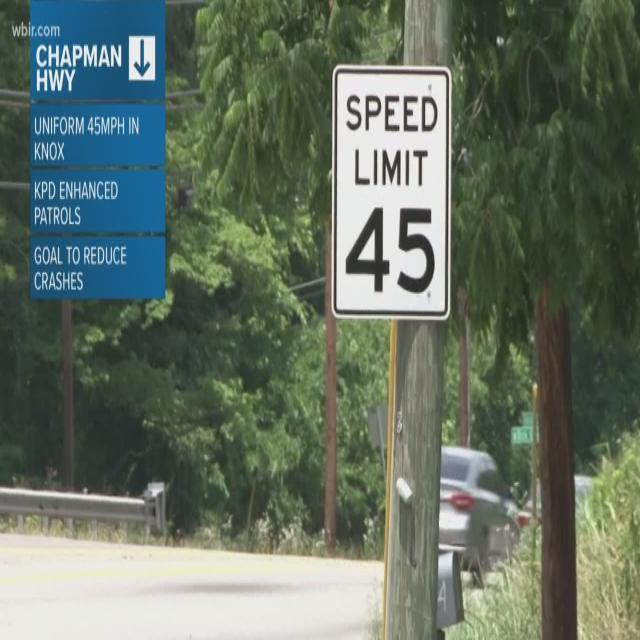speedLimit45: (331, 60, 453, 325)
